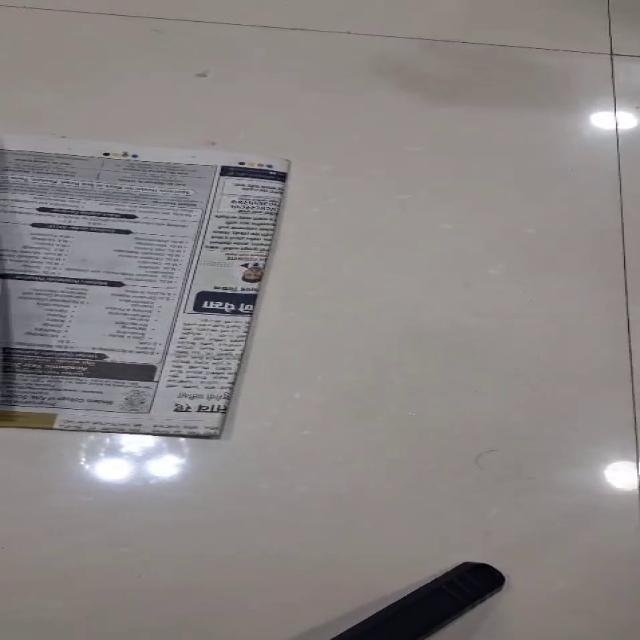paper: (0, 133, 291, 439)
